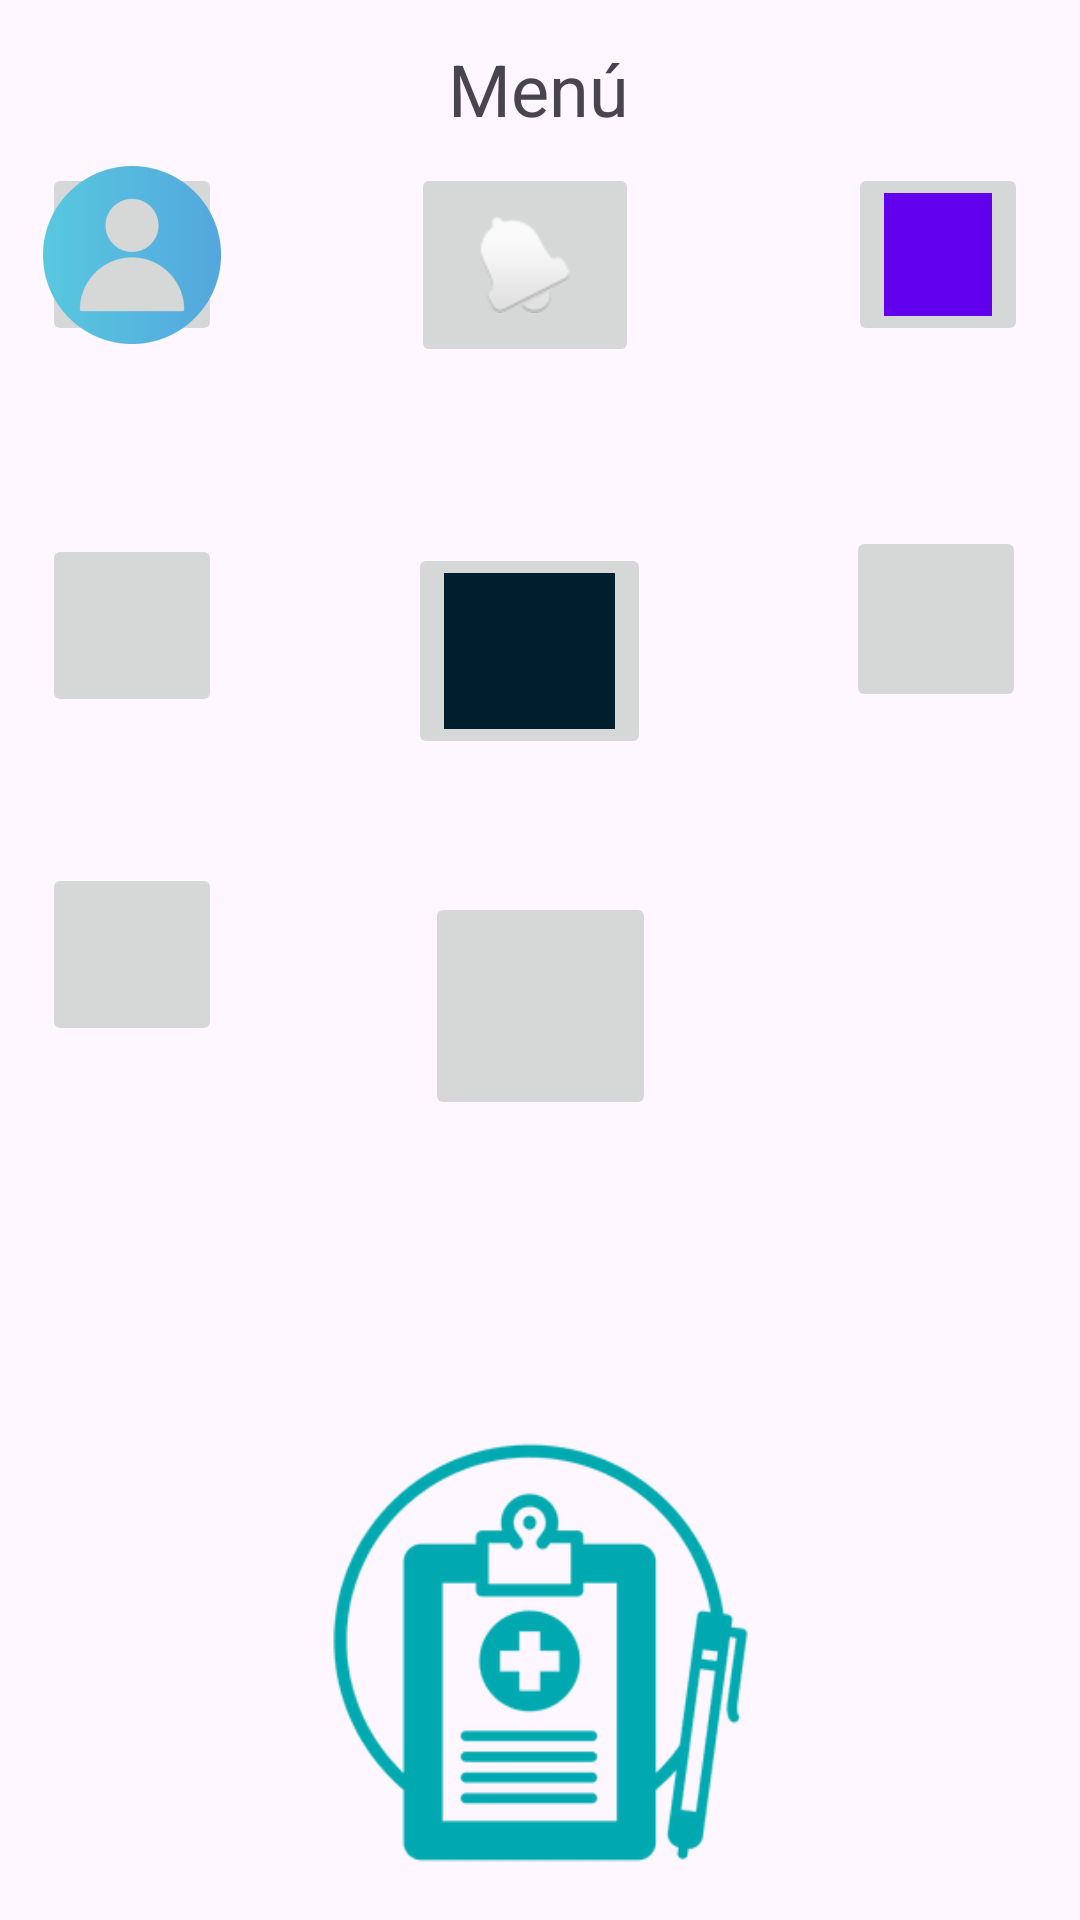

Point at icon controls on the screen. Image size 1080*1920, points as point (x, y).
popup reminder: point (525, 265)
